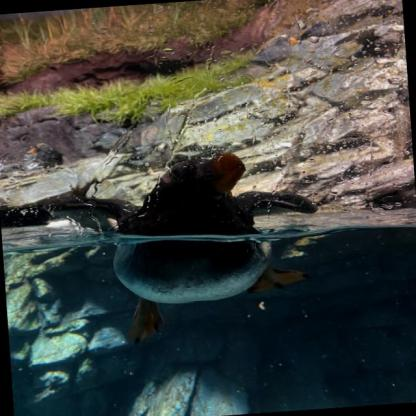puffin: (44, 148, 328, 351), (332, 24, 405, 60), (28, 140, 64, 170)
